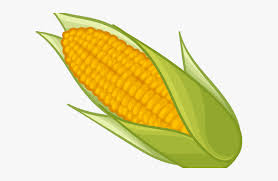Corn: (33, 8, 243, 170)
